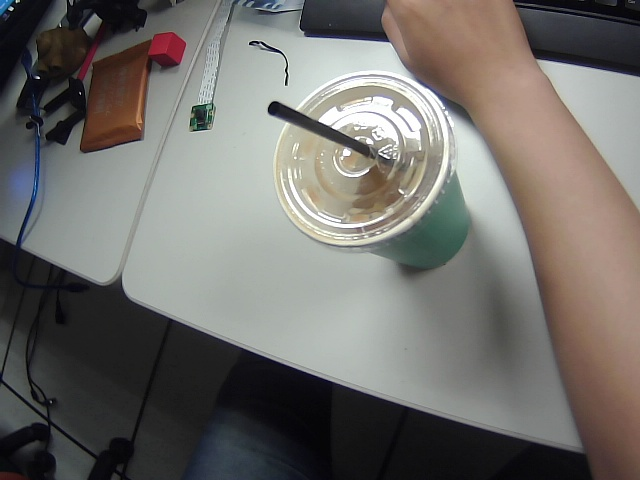beverage: (264, 66, 493, 301)
